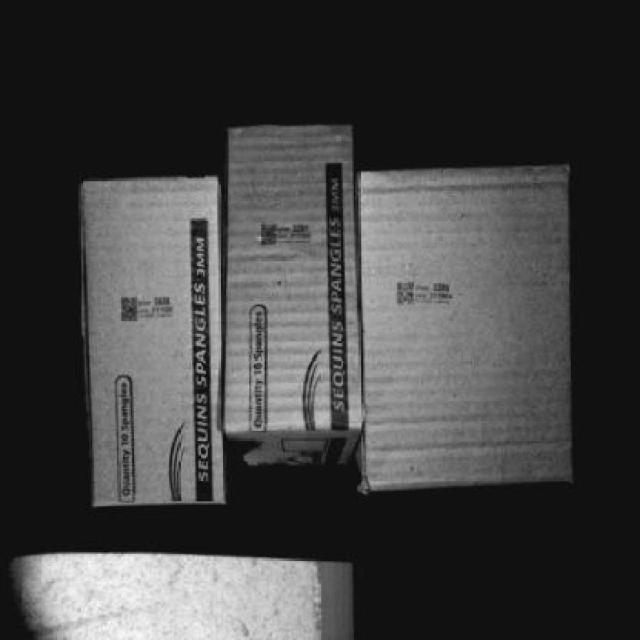box: (359, 170, 573, 488), (82, 173, 224, 504), (220, 119, 362, 430)
